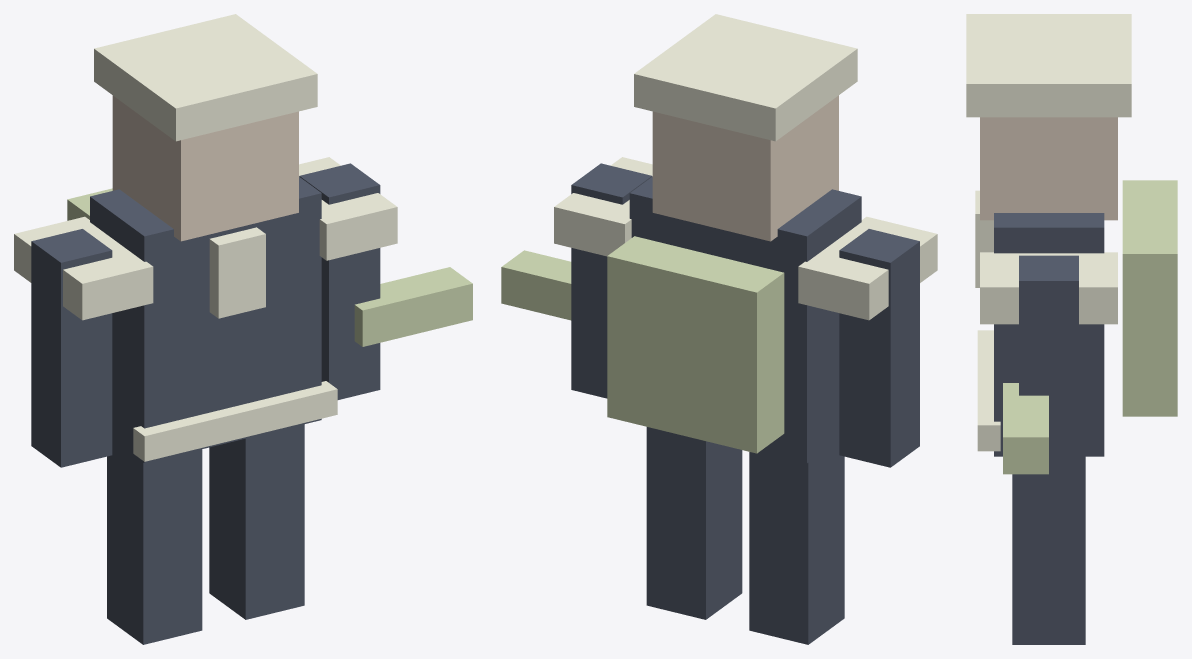
The model's file is 18_isolde_deepwell_specialist_from_vehicle.glb.
The picture shows the model from 3 angles, left to right: view 1: azimuth 30°, elevation 25°; view 2: azimuth 150°, elevation 25°; view 3: azimuth 270°, elevation 25°; orthographic projection.
Parts seen in each view (by area): view 1: Isolde Deepwell, Specialist from Vehicle; view 2: Isolde Deepwell, Specialist from Vehicle; view 3: Isolde Deepwell, Specialist from Vehicle.
Part boxes in pixels (x1,y1,x2,y2): Isolde Deepwell, Specialist from Vehicle: (14, 14, 472, 644); Isolde Deepwell, Specialist from Vehicle: (501, 14, 937, 644); Isolde Deepwell, Specialist from Vehicle: (966, 14, 1177, 644).
Size of the model in its own units: 1.08 by 1.41 by 0.4856.
